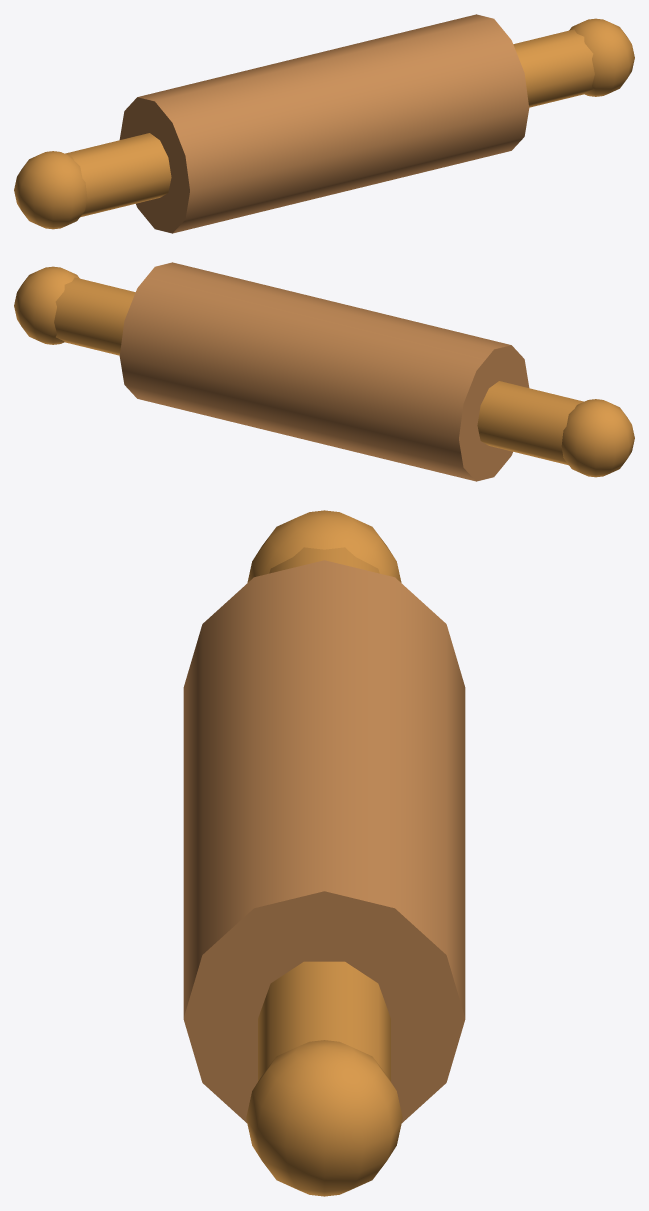
File: rolling-pin.glb
3 views of the same model, one above another, from view 1: azimuth 30°, elevation 25°; view 2: azimuth 150°, elevation 25°; view 3: azimuth 270°, elevation 25° (orthographic). The views are drawn at different scales.
Visible parts, largest first — view 1: rolling-pin; view 2: rolling-pin; view 3: rolling-pin.
Part boxes in pixels (x1=…): rolling-pin: x1=14, y1=14, x2=634, y2=233; rolling-pin: x1=14, y1=262, x2=634, y2=481; rolling-pin: x1=183, y1=510, x2=465, y2=1196.
Bounding box in the file's own units: 1.8 × 0.36 × 0.36.
